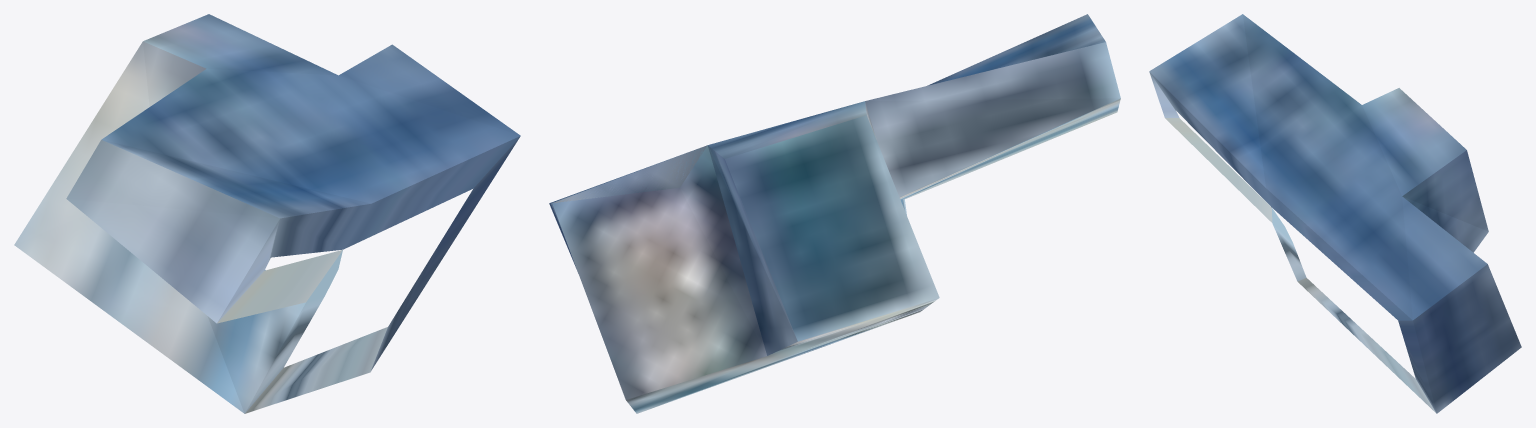
3 renders of one model, left to right at view 1: azimuth 30°, elevation 25°; view 2: azimuth 150°, elevation 25°; view 3: azimuth 270°, elevation 25°, orthographic. The views are drawn at different scales.
Bounding box in the file's own units: 23.41 × 17.35 × 21.4.
Materials: 1 (1 with a texture image).
